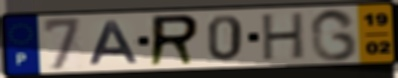0: (205, 14, 245, 64)
7: (41, 15, 84, 72)
A: (87, 19, 142, 66)
G: (309, 7, 360, 63)
H: (260, 11, 307, 63)
R: (147, 13, 202, 69)
